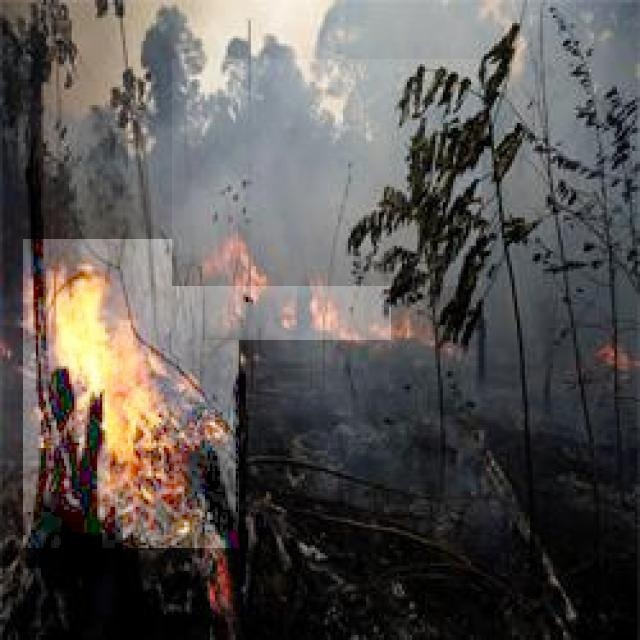Fire: (23, 239, 239, 548), (203, 238, 391, 340)
Smoke: (172, 59, 482, 286)
